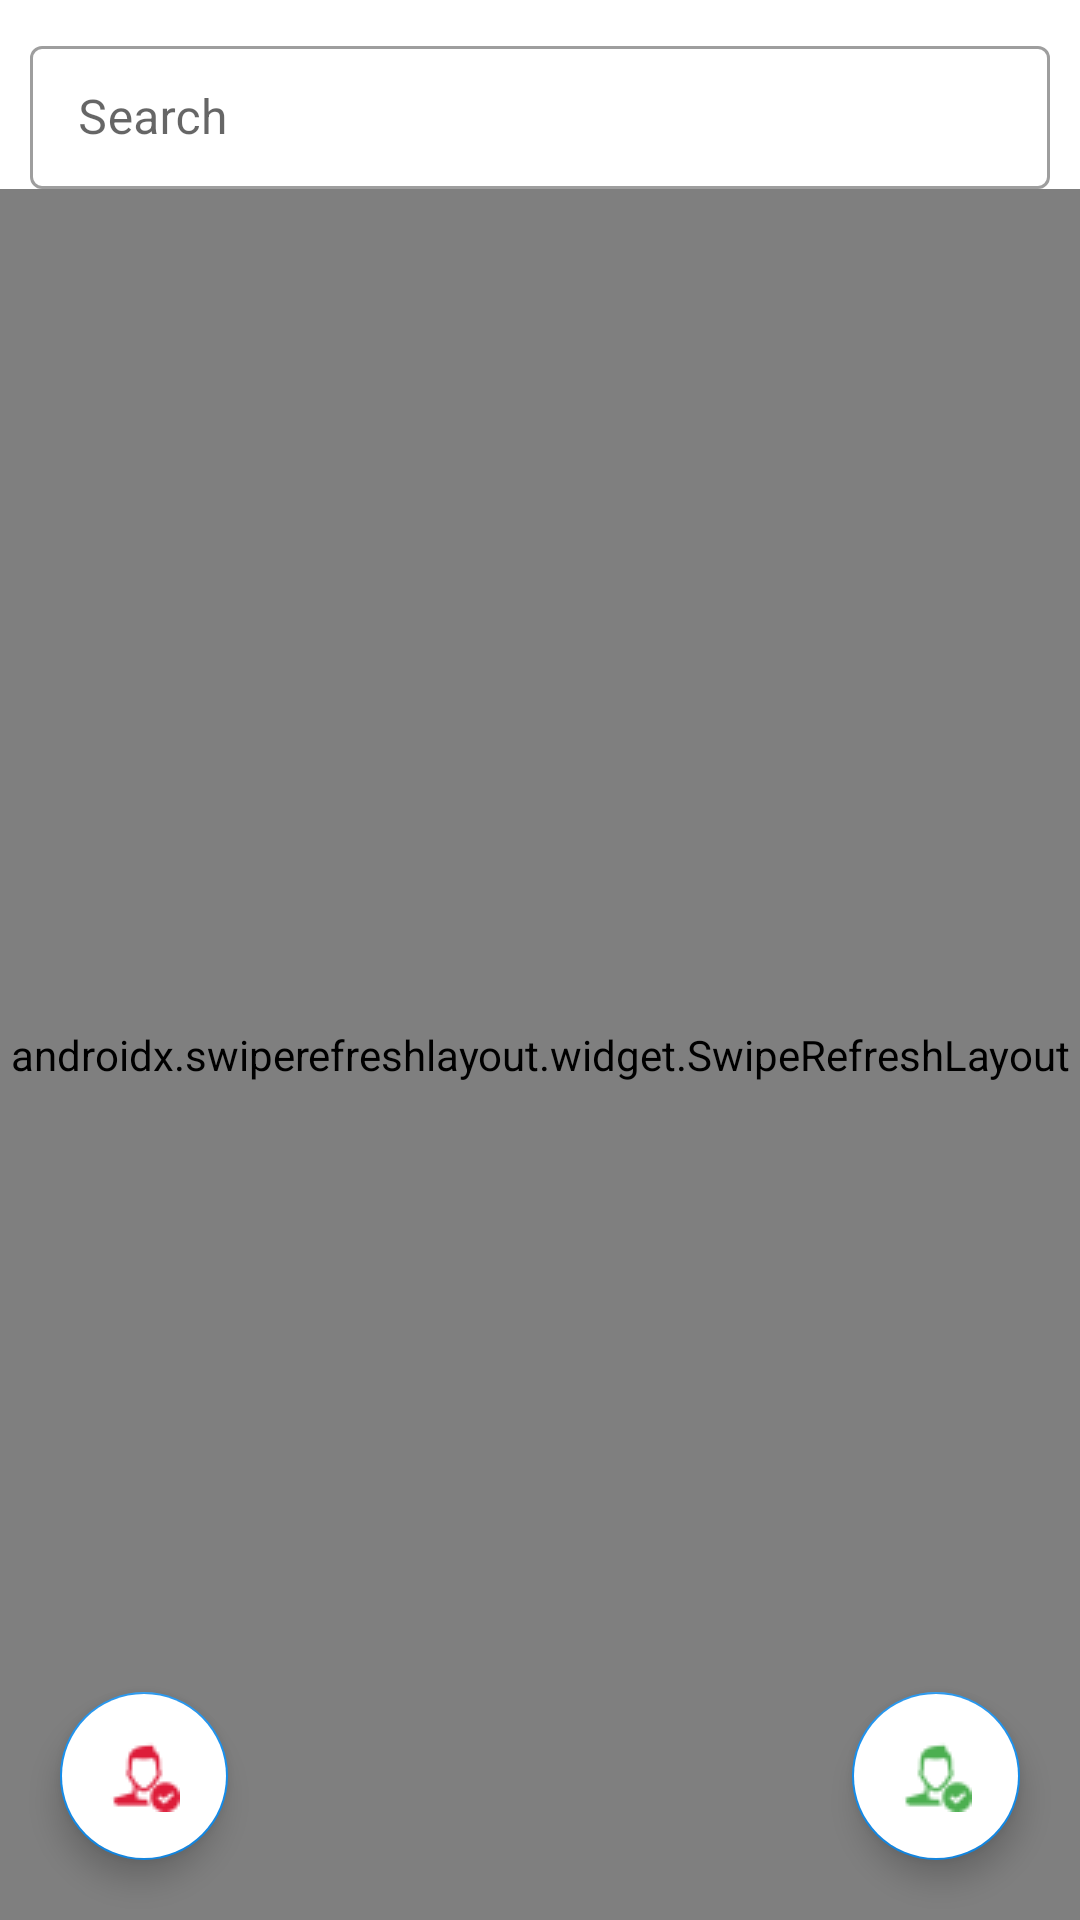

Screen size 1080px x 1920px. Icon name, then its center in pixels as point (x, y):
Attendance: point (936, 1776)
